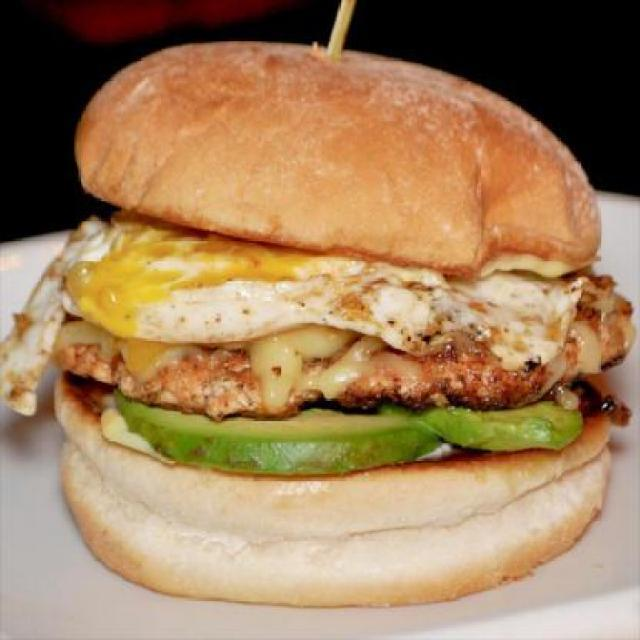Hamburger: (0, 43, 635, 610)
